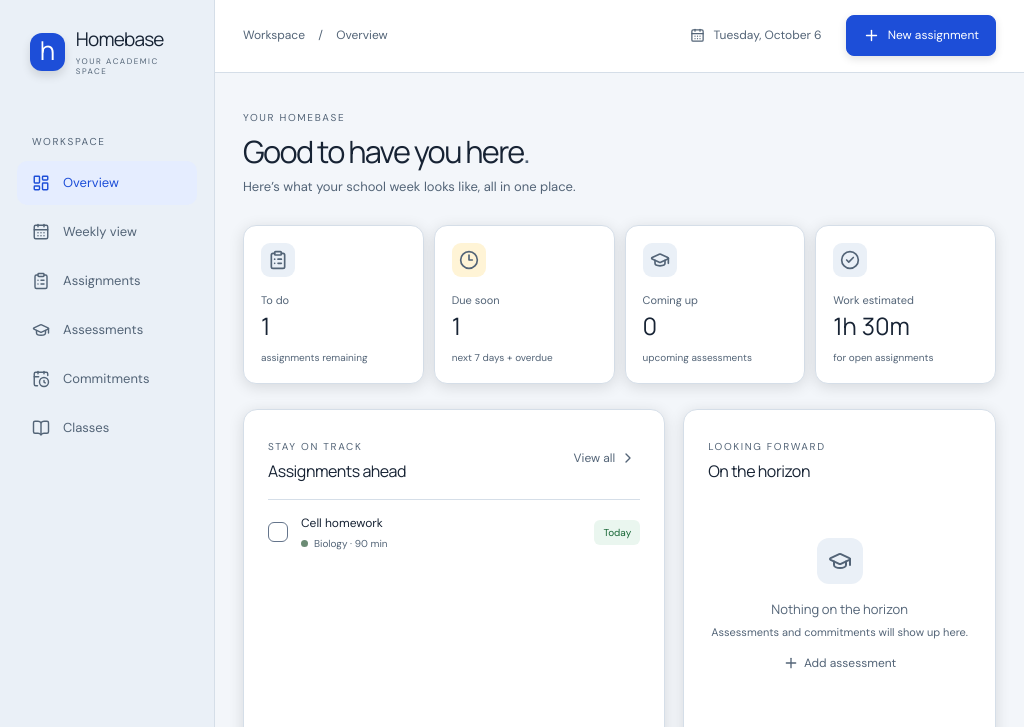
it: the lock modal keeps existing assignment editor access
The width and height of the screenshot is (1024, 727).
Click the button "Weekly view".
click(107, 232)  # box [17,210,197,254]
(page scrolled)
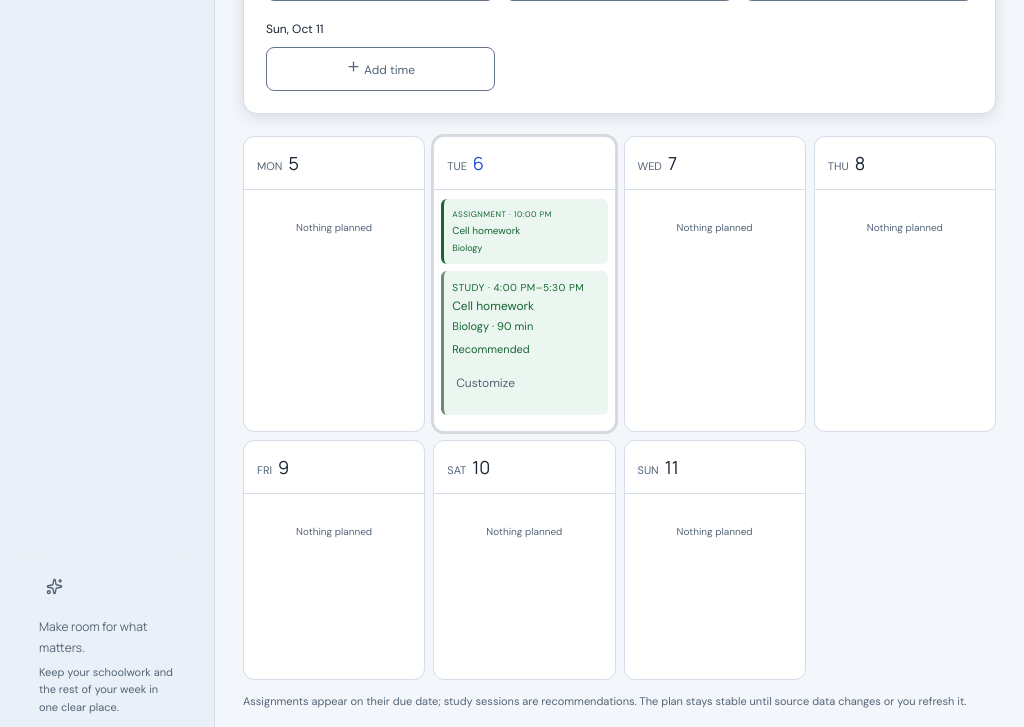
Click the button with aria-label "Customize study:".
click(486, 382)  # box [452,360,519,404]
(page scrolled)
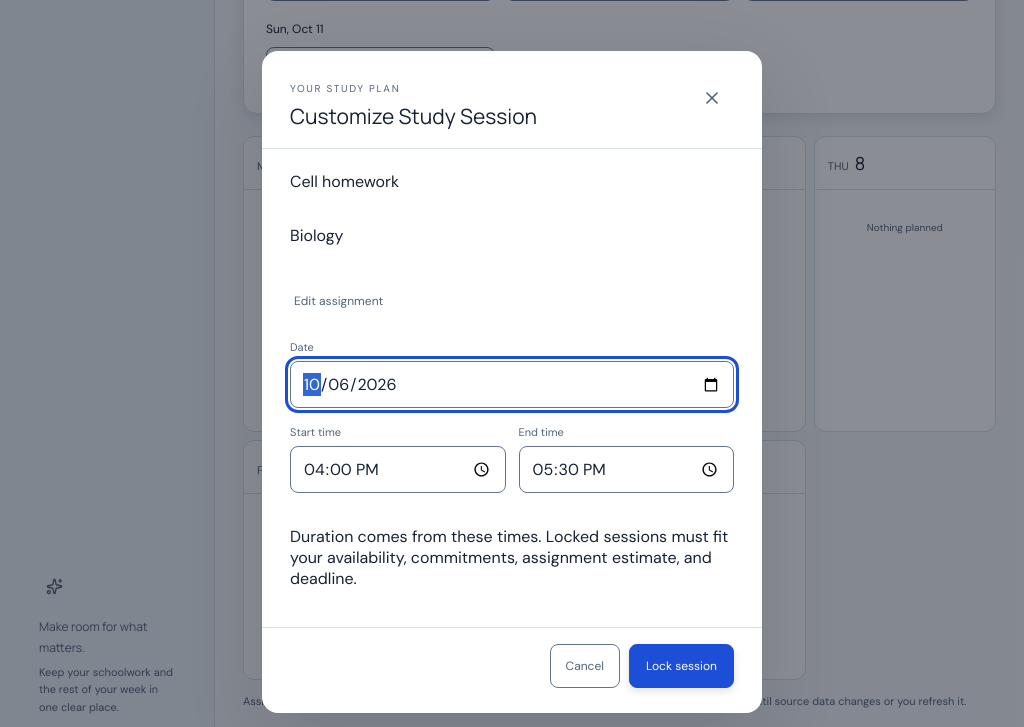
Click the button "Edit assignment".
click(339, 301)  # box [290,279,734,323]
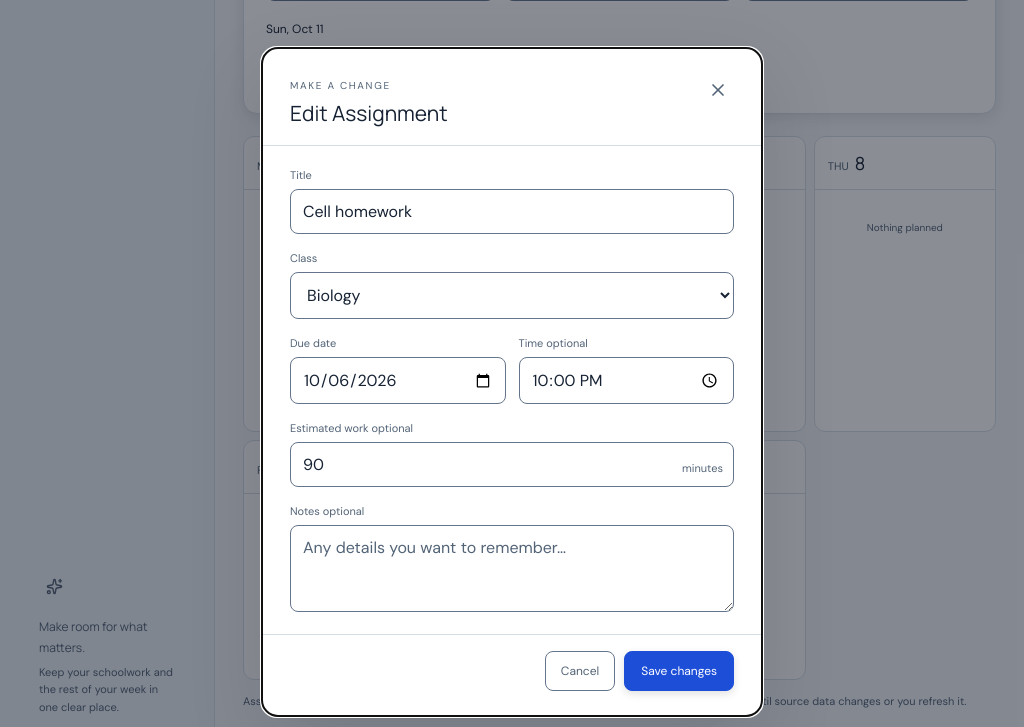
Expected: the heading "Edit assignment" is shown, [290,99,448,127]
Expected: the heading "Customize study session" is gone
